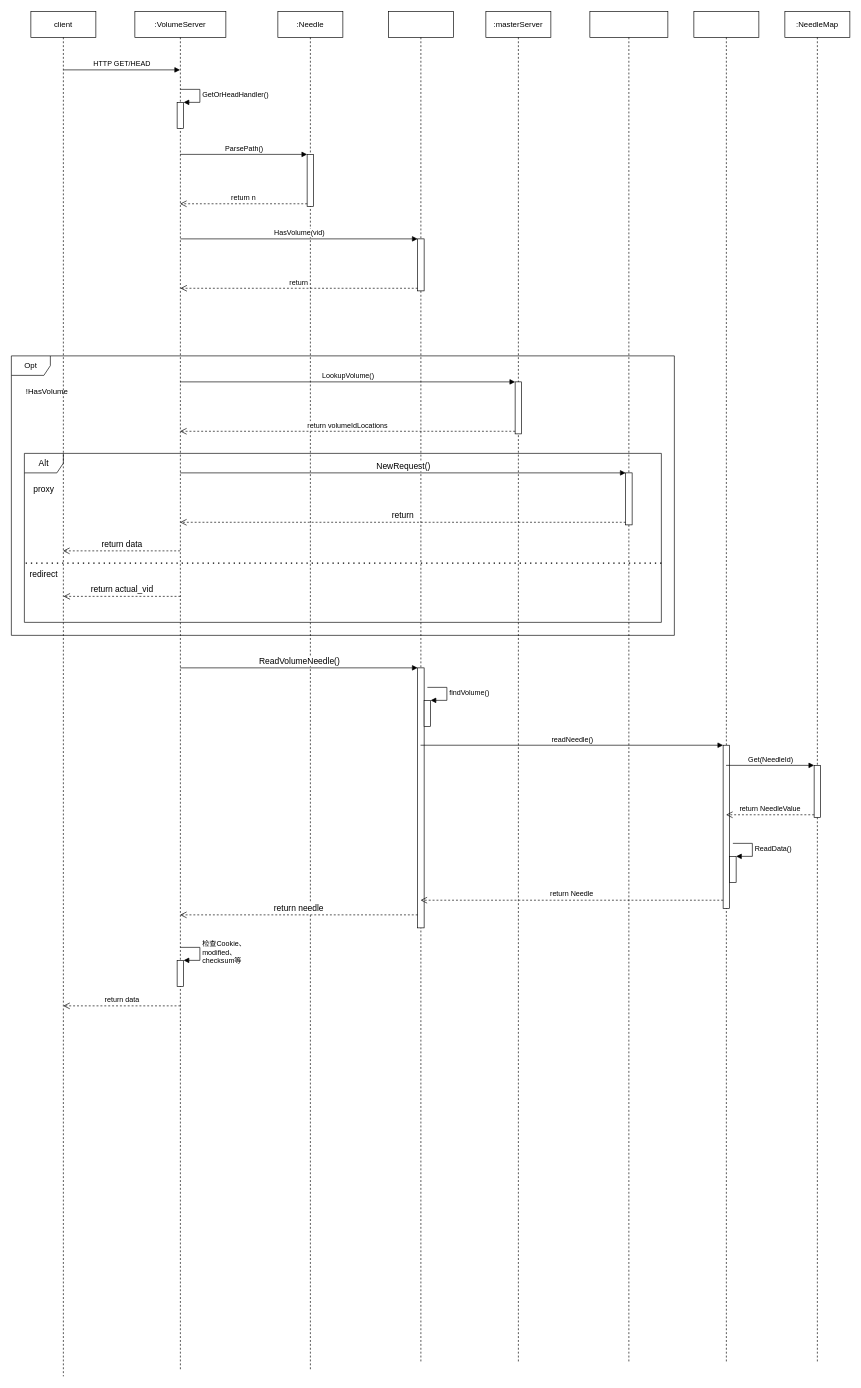
Some shapes in this 861 by 1388 pixel diagram are drawn without their labels. Each missing label, with the box of its shape:
:actual VolumeServer: (589, 11, 668, 1363)
:Store: (388, 11, 453, 1363)
:Volume: (693, 11, 759, 1363)
